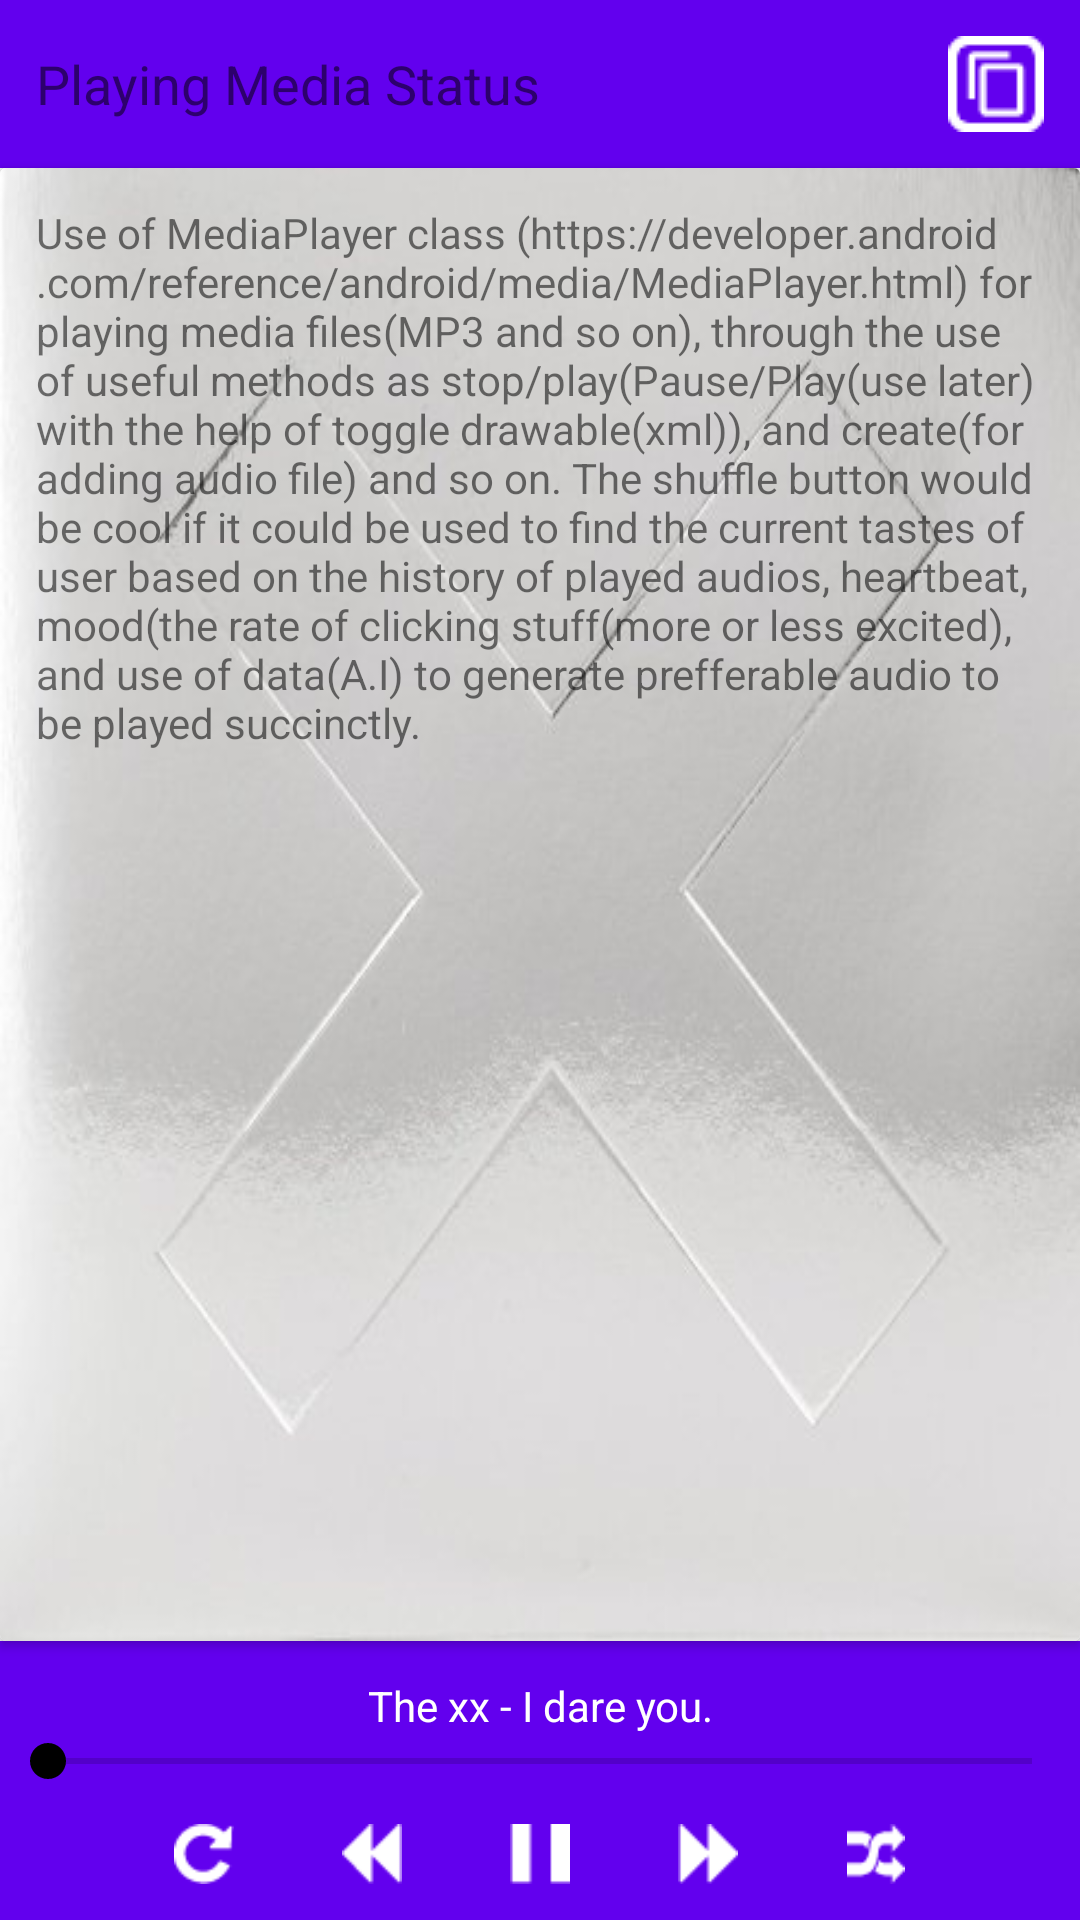

Where to tap for icons on this 1080*1920 app screen, as point (x, y):
backward: point (372, 1854)
forward: point (708, 1854)
pause: point (540, 1854)
repeat: point (204, 1854)
shuffle: point (876, 1854)
